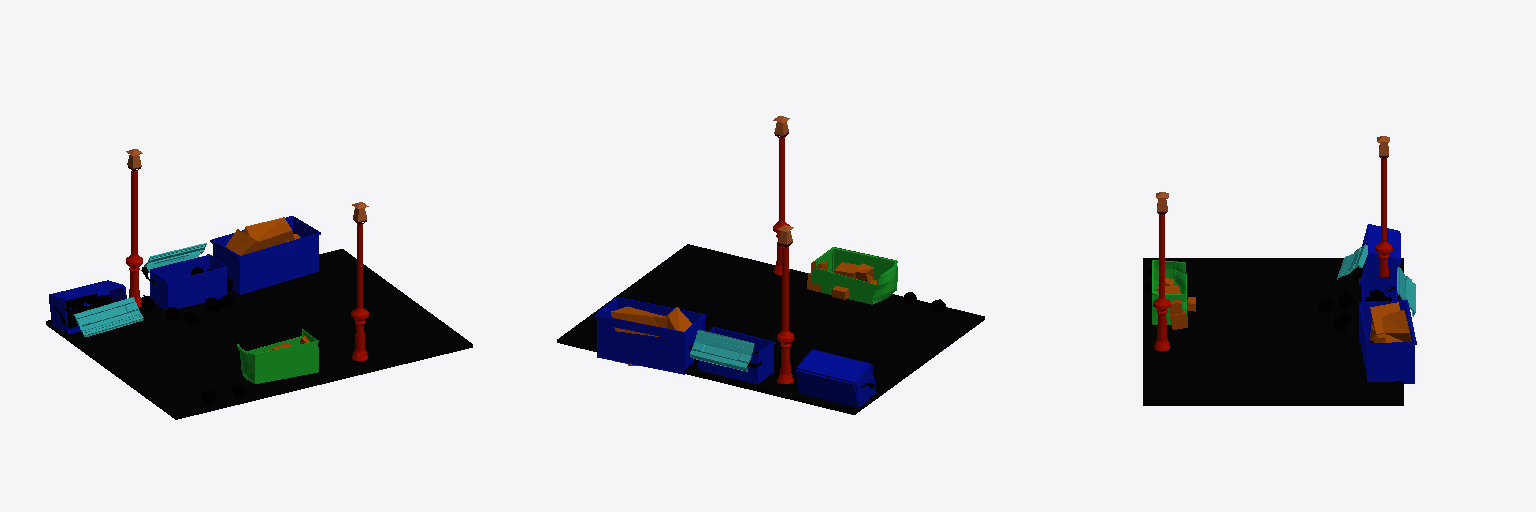
3 renders of one model, left to right at view 1: azimuth 30°, elevation 25°; view 2: azimuth 150°, elevation 25°; view 3: azimuth 270°, elevation 25°, orthographic.
Visible parts, largest first — view 1: Cube_Cube.001, groupe_conteneur_Cube, conteneur_Cube.008, sac_poubelle_Circle, couvercle_Plane.003, cartons.001_Cube.023, poteau_base_2_Circle.005, poteau_base_Circle.006, Plane; view 2: Cube_Cube.001, groupe_conteneur_Cube, conteneur_Cube.008, Plane, cartons.001_Cube.023, poteau_base_Circle.006, cartons_Cube.010, poteau_base_2_Circle.005, sac_poubelle_Circle; view 3: Cube_Cube.001, groupe_conteneur_Cube, cartons.001_Cube.023, conteneur_Cube.008, poteau_base_2_Circle.005, sac_poubelle_Circle, poteau_base_Circle.006, cartons_Cube.010, Plane.
Part boxes in pixels (x1,y1,x2,y2): Cube_Cube.001: (46, 249, 472, 419); groupe_conteneur_Cube: (49, 216, 320, 333); conteneur_Cube.008: (237, 329, 318, 383); sac_poubelle_Circle: (54, 254, 247, 403); couvercle_Plane.003: (73, 297, 143, 336); cartons.001_Cube.023: (225, 217, 300, 255); poteau_base_2_Circle.005: (351, 224, 368, 360); poteau_base_Circle.006: (126, 171, 142, 307); Plane: (144, 243, 206, 272); Cube_Cube.001: (557, 244, 984, 414); groupe_conteneur_Cube: (594, 297, 876, 407); conteneur_Cube.008: (811, 247, 897, 304); Plane: (690, 330, 754, 371); cartons.001_Cube.023: (611, 306, 691, 365); poteau_base_Circle.006: (777, 247, 794, 383); cartons_Cube.010: (807, 261, 876, 299); poteau_base_2_Circle.005: (773, 137, 789, 274); sac_poubelle_Circle: (689, 292, 945, 388); Cube_Cube.001: (1143, 258, 1403, 405); groupe_conteneur_Cube: (1359, 224, 1416, 383); cartons.001_Cube.023: (1370, 302, 1411, 342); conteneur_Cube.008: (1152, 260, 1186, 324); poteau_base_2_Circle.005: (1153, 214, 1170, 350); sac_poubelle_Circle: (1145, 243, 1395, 331); poteau_base_Circle.006: (1375, 158, 1392, 276); cartons_Cube.010: (1157, 278, 1195, 329); Plane: (1397, 267, 1415, 316).
Size of the model in its own units: 22.32 by 12.24 by 17.79.